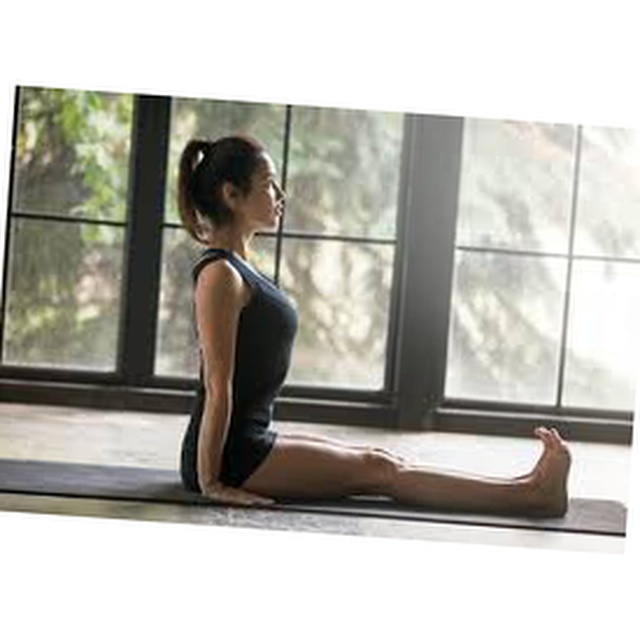Staff_Pose: (178, 135, 572, 521)
